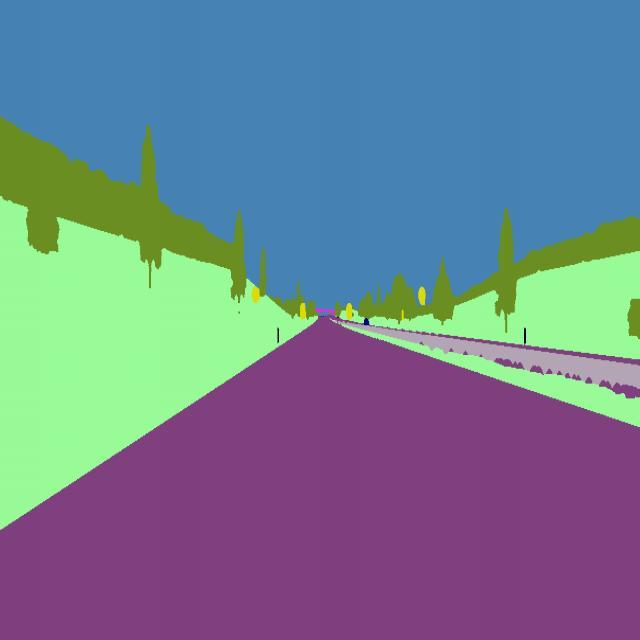safe: (361, 318, 372, 328)
